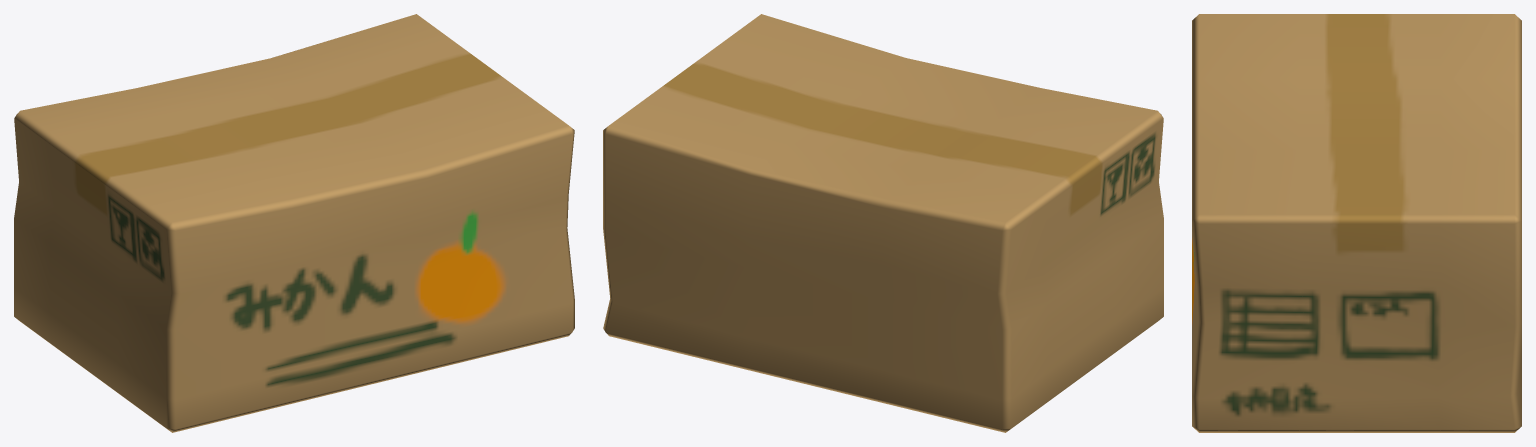
The model's file is CardBoard001.fbx.
The picture shows the model from 3 angles, left to right: view 1: azimuth 30°, elevation 25°; view 2: azimuth 150°, elevation 25°; view 3: azimuth 270°, elevation 25°; orthographic projection. The views are drawn at different scales.
Visible parts, largest first — view 1: danboru; view 2: danboru; view 3: danboru.
Boxes of the visible parts, x1,y1,x2,y2 form: danboru: [14, 14, 574, 432]; danboru: [603, 14, 1163, 432]; danboru: [1192, 14, 1521, 432].
Bounding box in the file's own units: 0.0255 × 0.0126 × 0.0172.
Materials: 1 (1 with a texture image).
